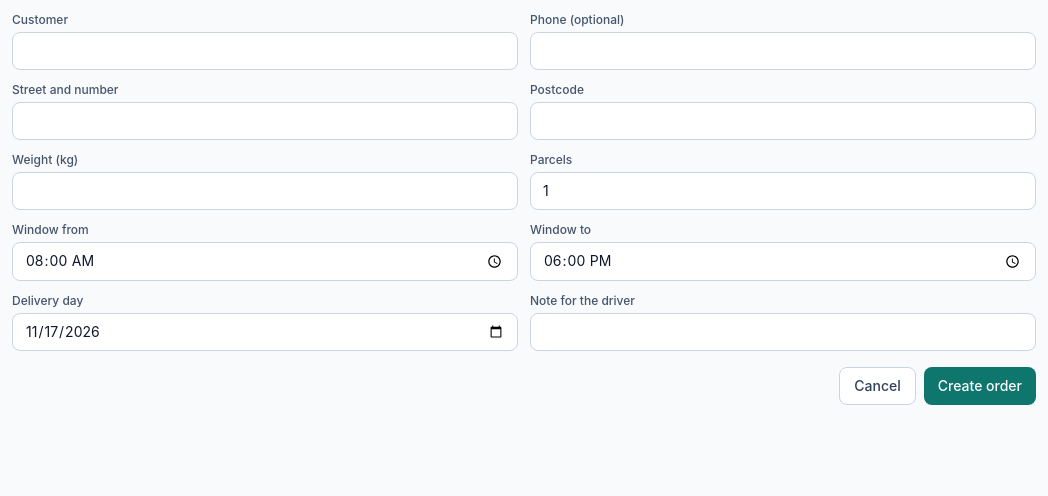
Test: shows server field errors next to the field
Step 1. Type "Café Deichgraf" into the field labelled "Customer" → (265, 51), box [12,32,518,70]
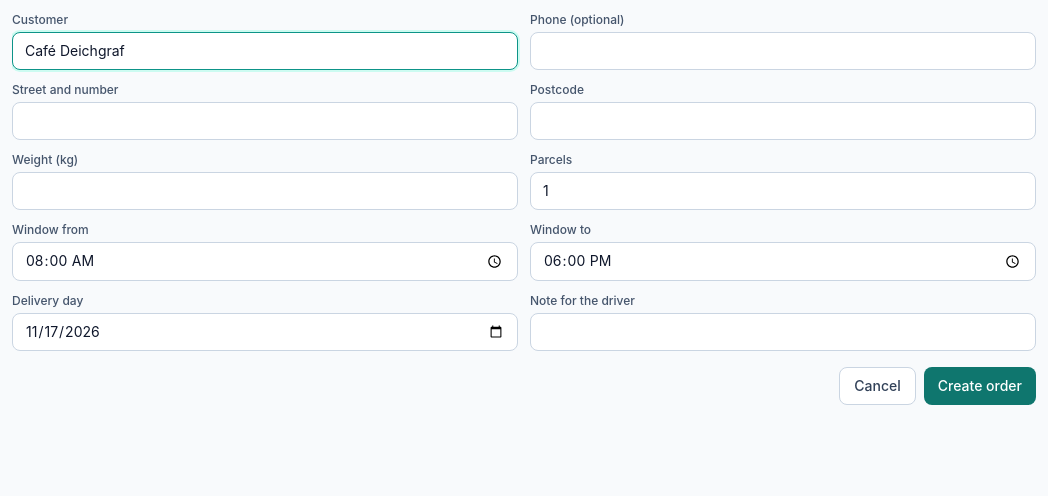
Step 2. Type "Lange Reihe 5" into the field labelled "Street and number" → (265, 121), box [12,102,518,140]
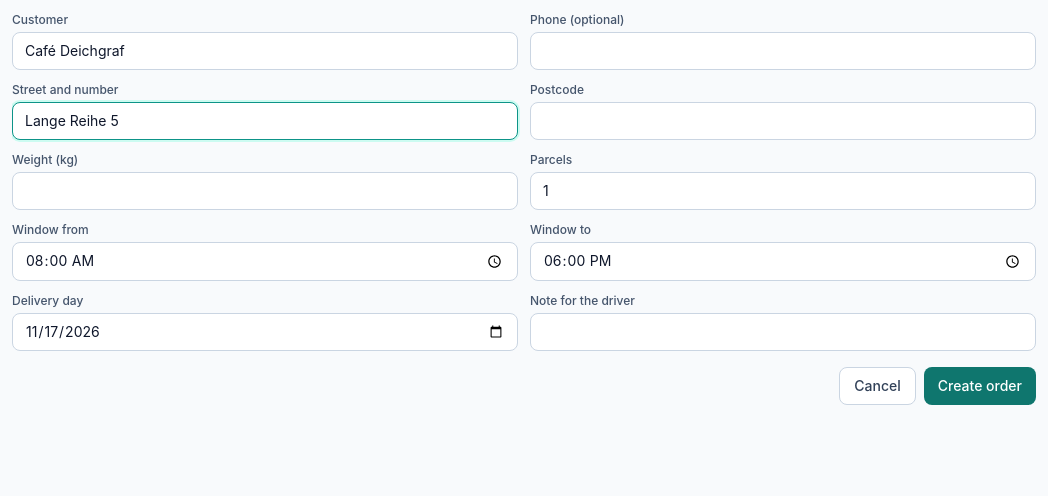
Step 3. Type "20099" into the field labelled "Postcode" → (783, 121), box [530,102,1036,140]
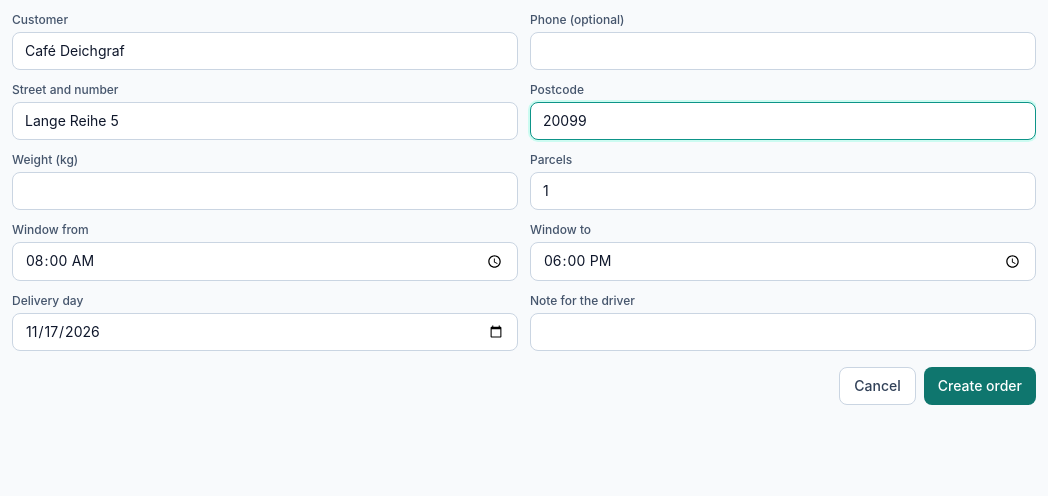
Step 4. Type "4" into the field labelled "Weight (kg)" → (265, 191), box [12,172,518,210]
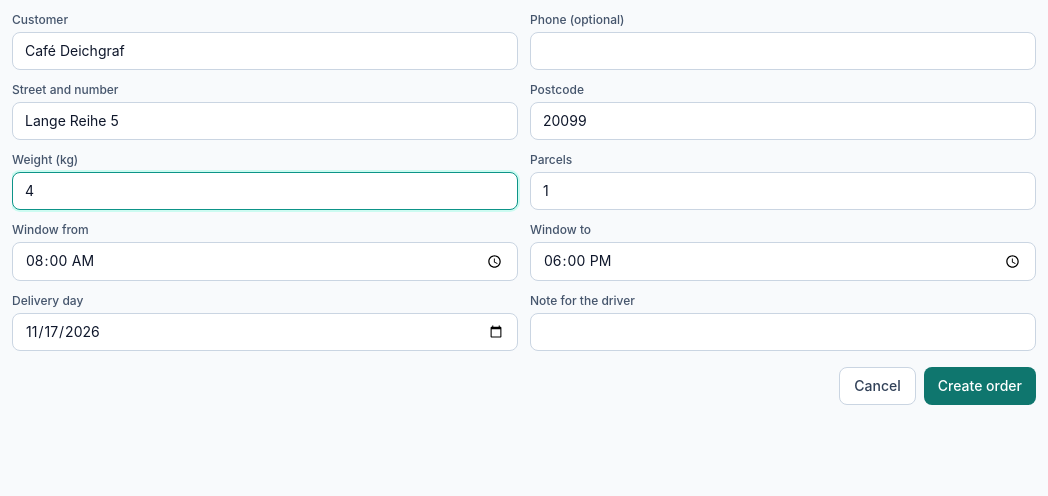
Step 5. Click the button "Create order" → (980, 386), box [924,367,1036,405]
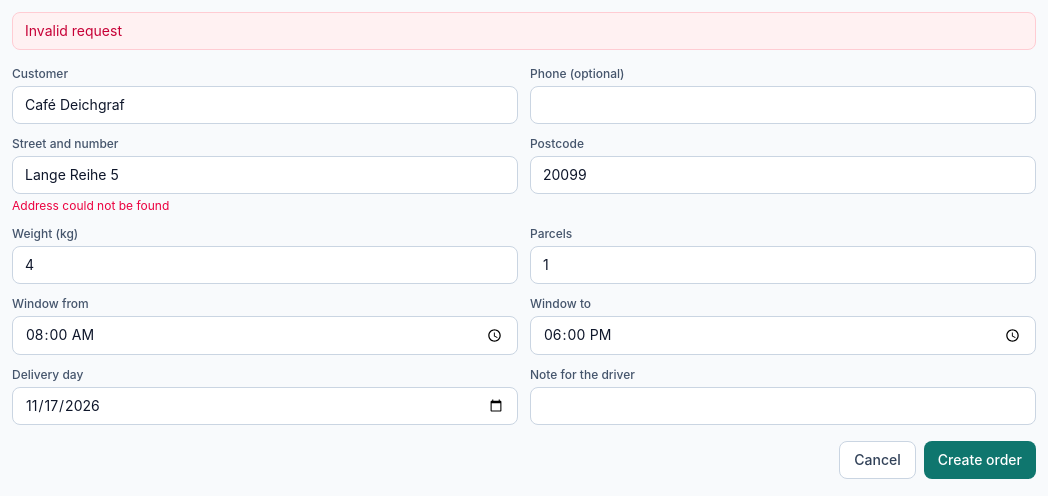
Expected: the text "Address could not be found" is shown, [12,198,169,213]
Expected: the message reads "Invalid request", [25,22,122,39]
